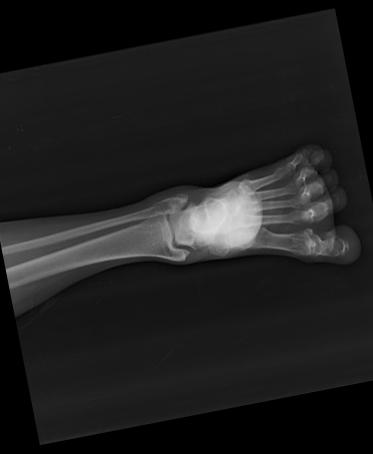fractured: (147, 199, 168, 216)
